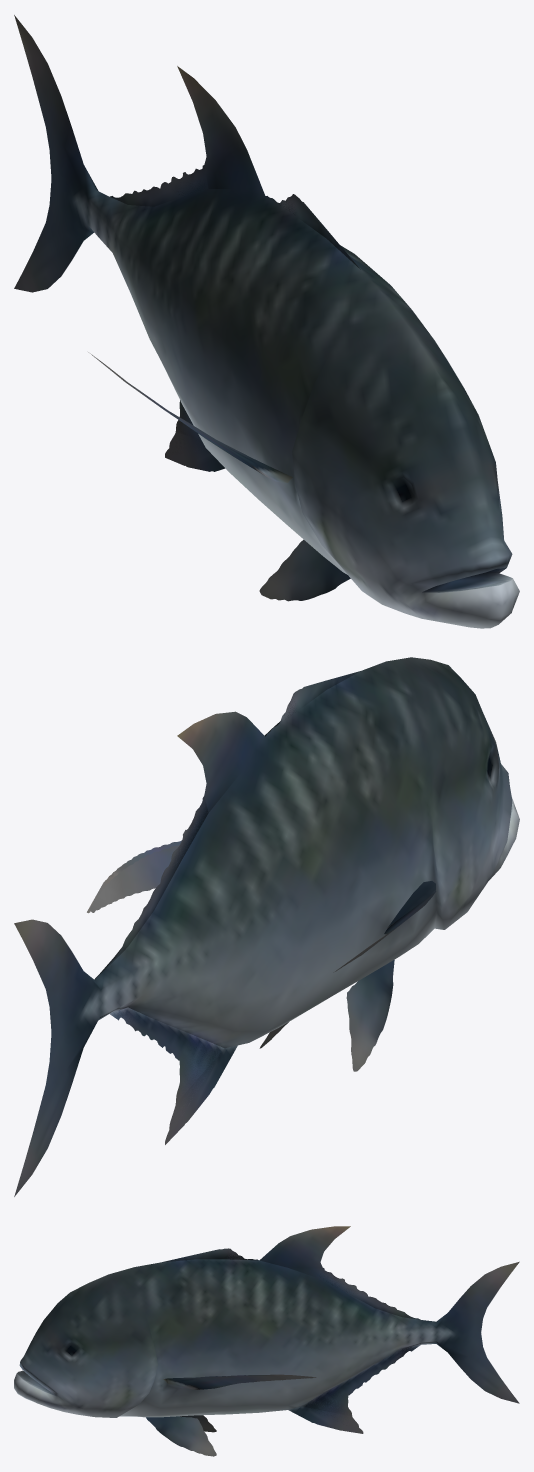
The model's file is giant-trevally.glb.
The picture shows the model from 3 angles, top to bottom: view 1: azimuth 30°, elevation 25°; view 2: azimuth 150°, elevation 25°; view 3: azimuth 270°, elevation 25°; orthographic projection. The views are drawn at different scales.
Bounding box in the file's own units: 4.54 × 6.69 × 14.02.
Materials: 1 (1 with a texture image).
